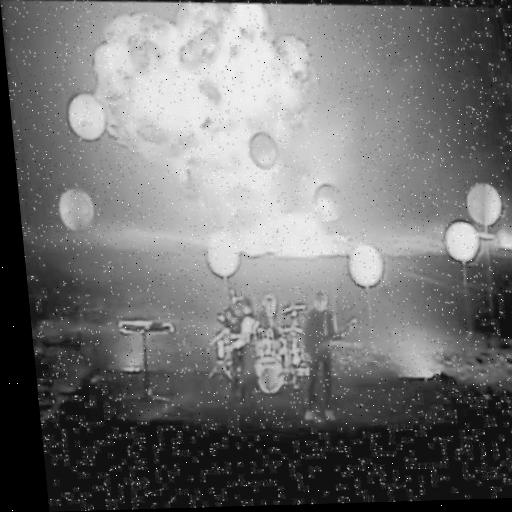balloon: (65, 87, 109, 143), (203, 228, 245, 282), (56, 184, 99, 232), (465, 177, 506, 225), (349, 236, 387, 286), (444, 217, 483, 261), (314, 174, 346, 219), (250, 129, 280, 169)
